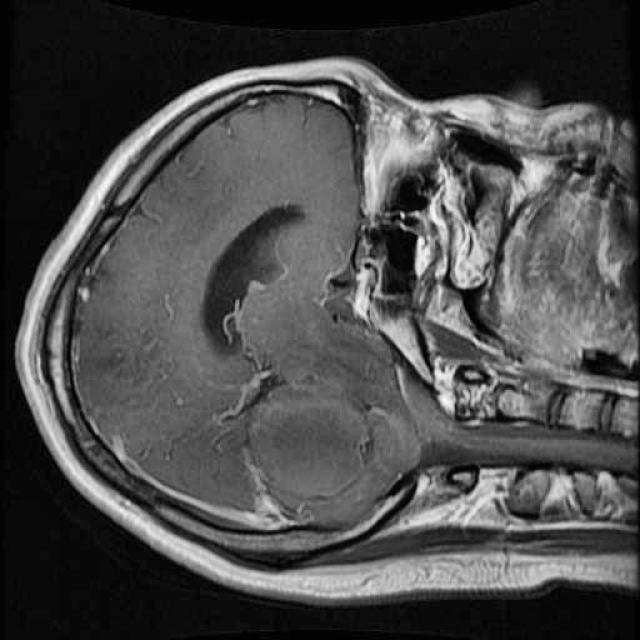Non-Tumor: (226, 381, 445, 541)
